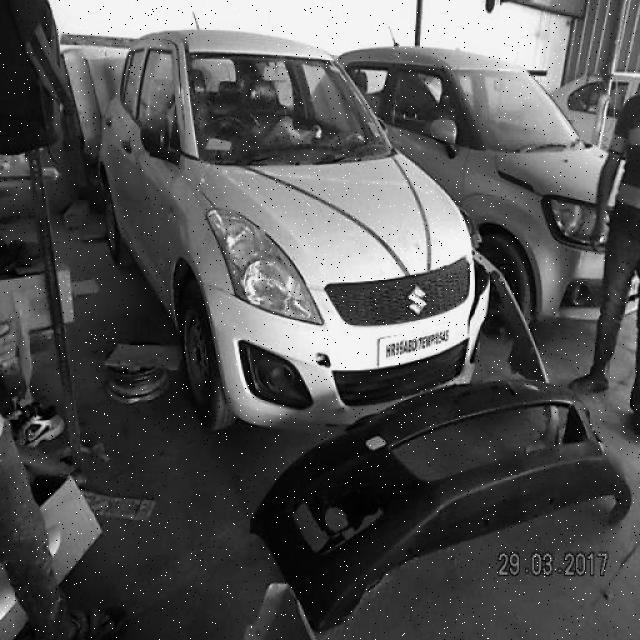car damage: (459, 208, 488, 335)
